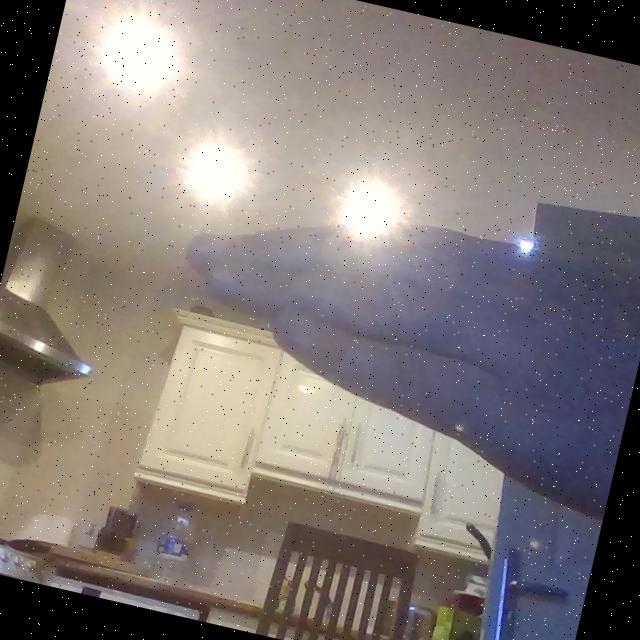papper: (146, 166, 616, 492)
